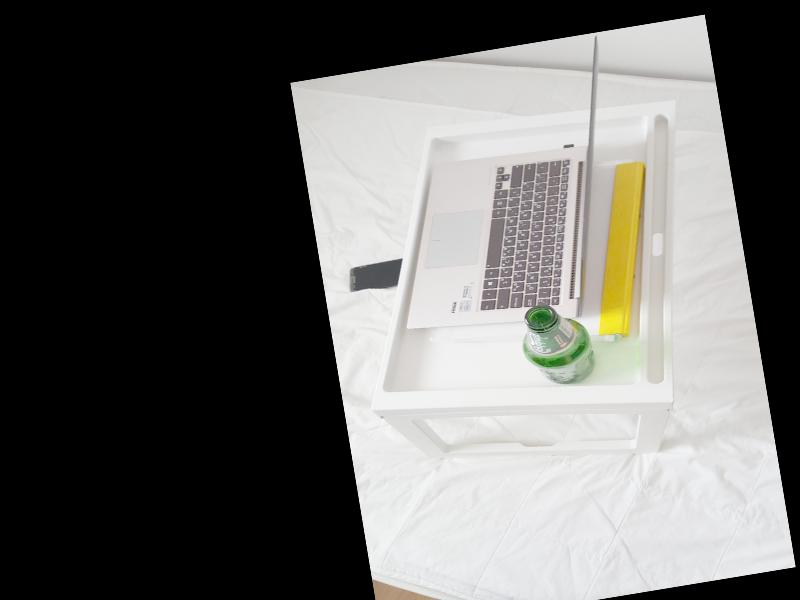Beer: (516, 299, 598, 391)
